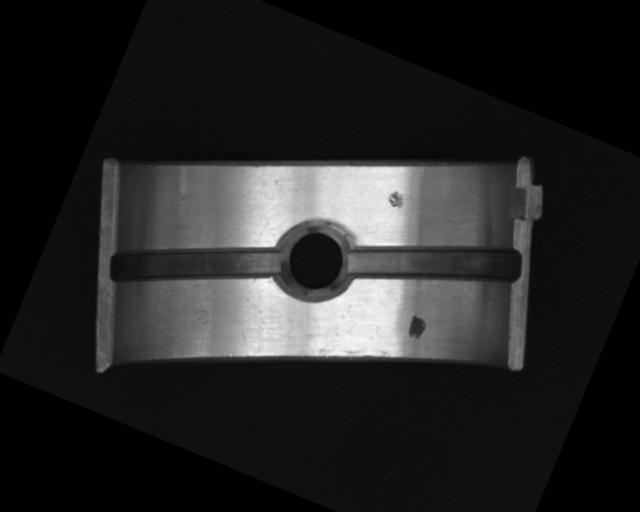blot: (404, 312, 430, 342)
bruise: (384, 187, 408, 211)
gap: (104, 192, 289, 337), (342, 191, 527, 336)
hole: (271, 210, 363, 306)
